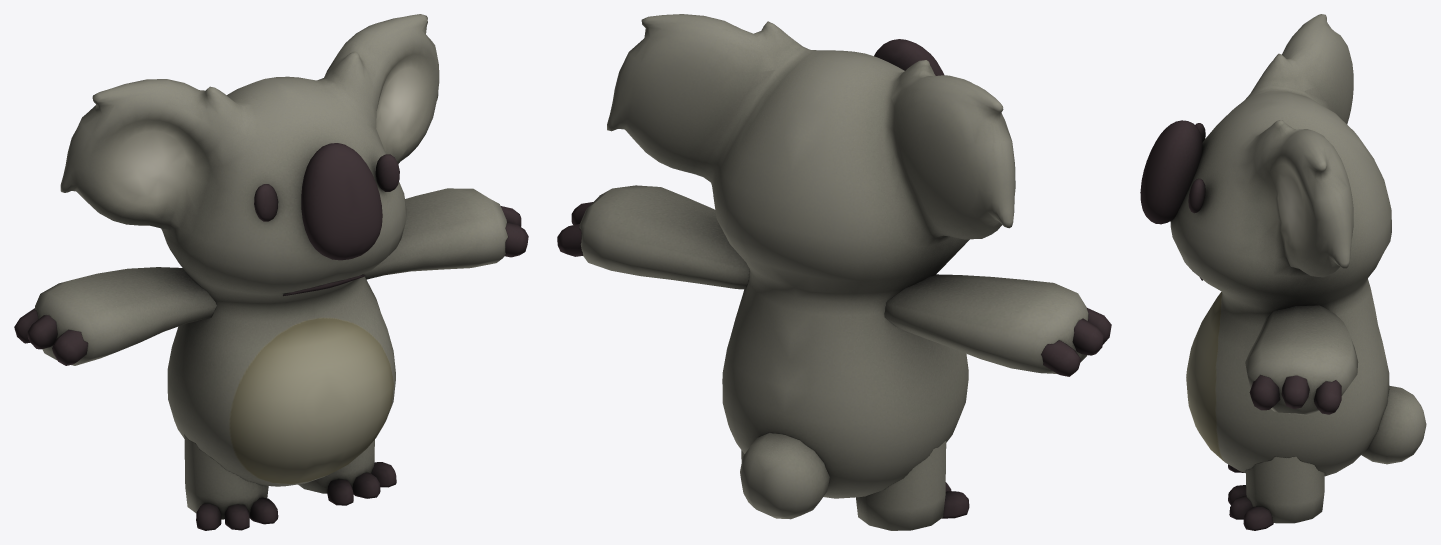
File: Koala Personaje.fbx
3 renders of one model, left to right at view 1: azimuth 30°, elevation 25°; view 2: azimuth 150°, elevation 25°; view 3: azimuth 270°, elevation 25°, orthographic. The views are drawn at different scales.
Parts seen in each view (by area): view 1: Cuerpo_HD.008_Plane.002; view 2: Cuerpo_HD.008_Plane.002; view 3: Cuerpo_HD.008_Plane.002.
Part boxes in pixels (x1=…): Cuerpo_HD.008_Plane.002: x1=14, y1=14, x2=528, y2=530; Cuerpo_HD.008_Plane.002: x1=557, y1=14, x2=1111, y2=530; Cuerpo_HD.008_Plane.002: x1=1140, y1=14, x2=1426, y2=530.
Bounding box in the file's own units: 117 × 98.5 × 63.27.
